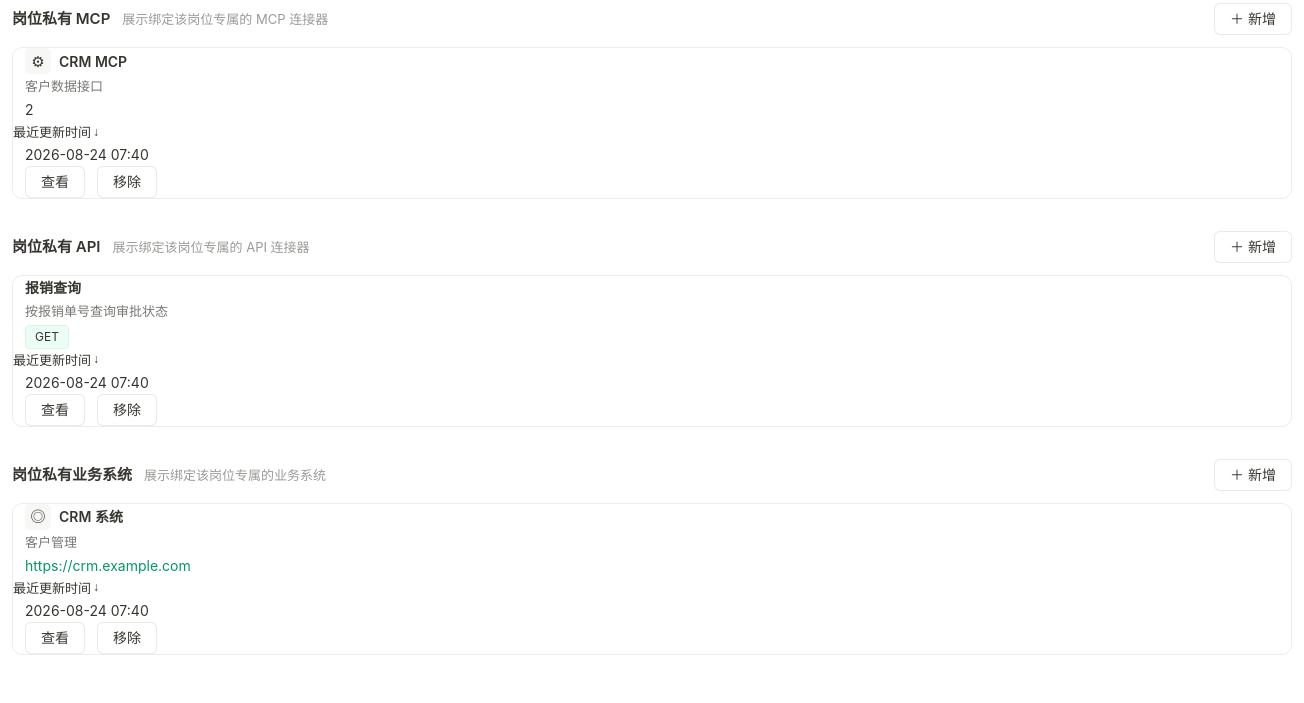
Test: 连接器页签 · 绑定弹窗候选范围（md 岗位 §8.1–§8.3；待办 yuepu#24③） › 岗位私有 MCP 的【＋ 新增】只向接口要「岗位私有 + 已发布」的候选；挂载时加载已绑定行不带该条件（软引用，停用后仍展示）
The image size is (1304, 703).
Click the button "＋ 新增" in the row of "展示绑定该岗位专属的 MCP 连接器" at point(1253, 19), box [1214,3,1292,35]
(page scrolled)
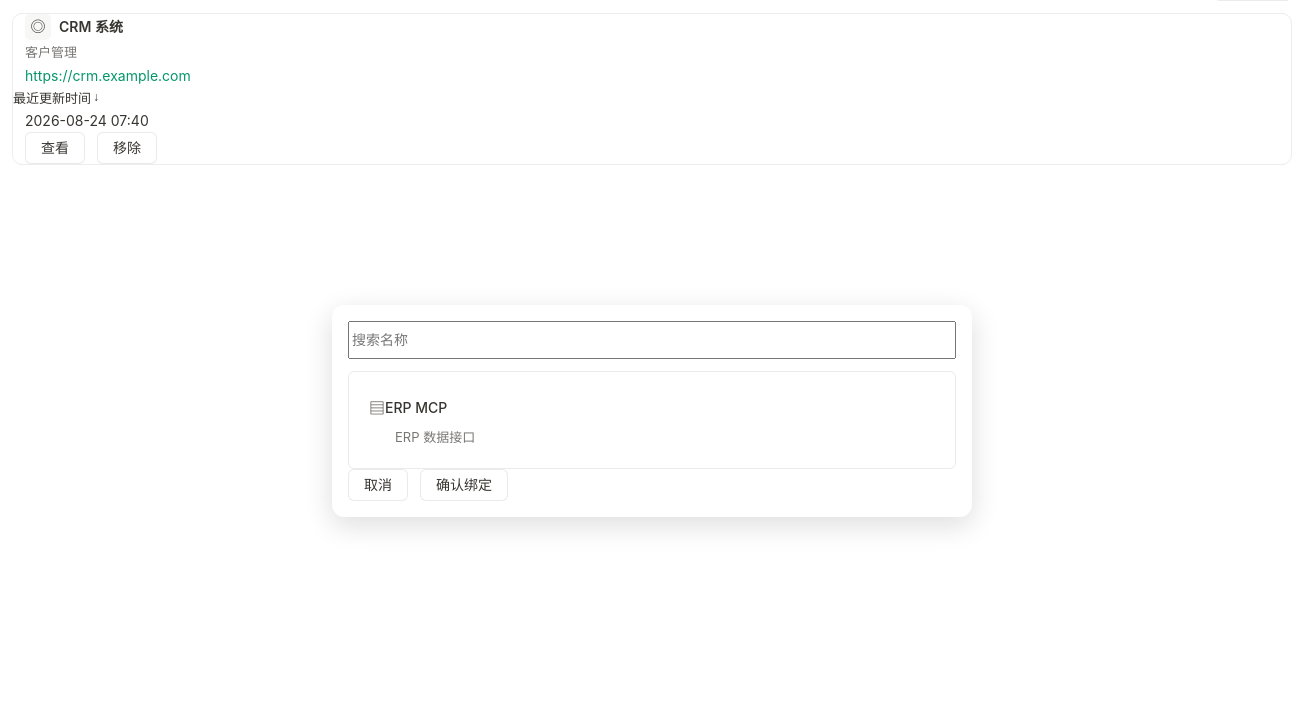
Check: the element showing "ERP 数据接口 取消 确认绑定" is shown, box [332,305,972,517]
